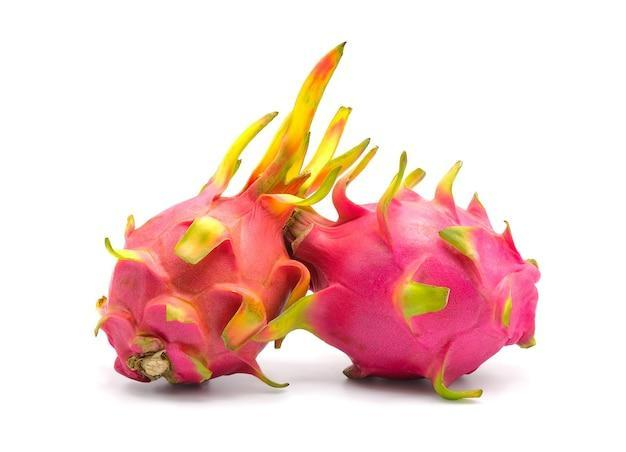dragon-fruit: (309, 198, 542, 382), (105, 194, 293, 387)
